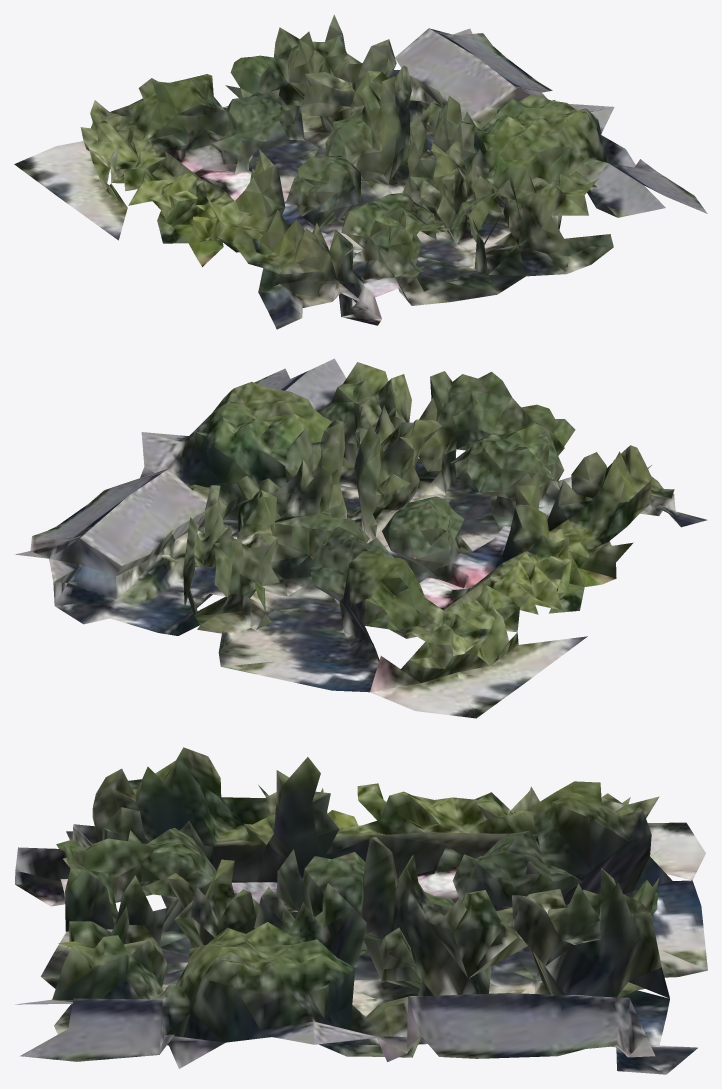
Rendered from Tile_+005_+005_L17_00.glb.
3 views of the same model, one above another, from view 1: azimuth 30°, elevation 25°; view 2: azimuth 150°, elevation 25°; view 3: azimuth 270°, elevation 25° (orthographic). The views are drawn at different scales.
Visible parts, largest first — view 1: rtc; view 2: rtc; view 3: rtc.
Part boxes in pixels (left/top/right/bottom): rtc: left=14, top=14, right=707, bottom=329; rtc: left=14, top=358, right=707, bottom=718; rtc: left=15, top=747, right=707, bottom=1074.
Bounding box in the file's own units: 60.14 × 15.21 × 61.13.
Materials: 1 (1 with a texture image).
